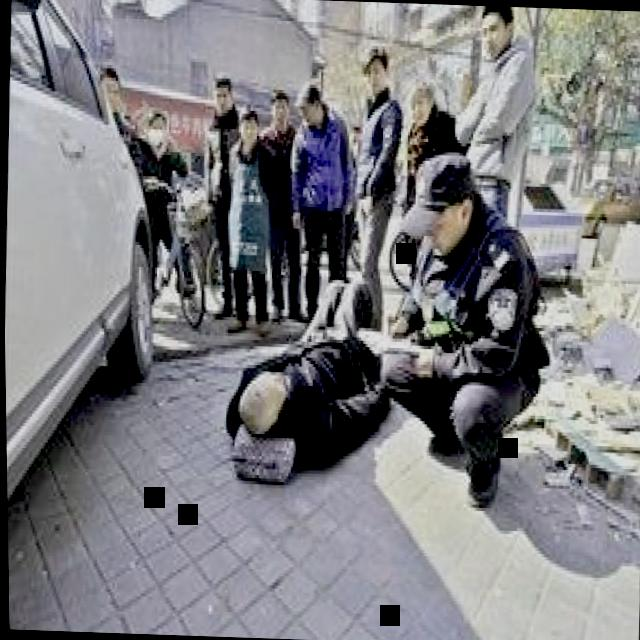Fall-Detected: (209, 254, 402, 492)
